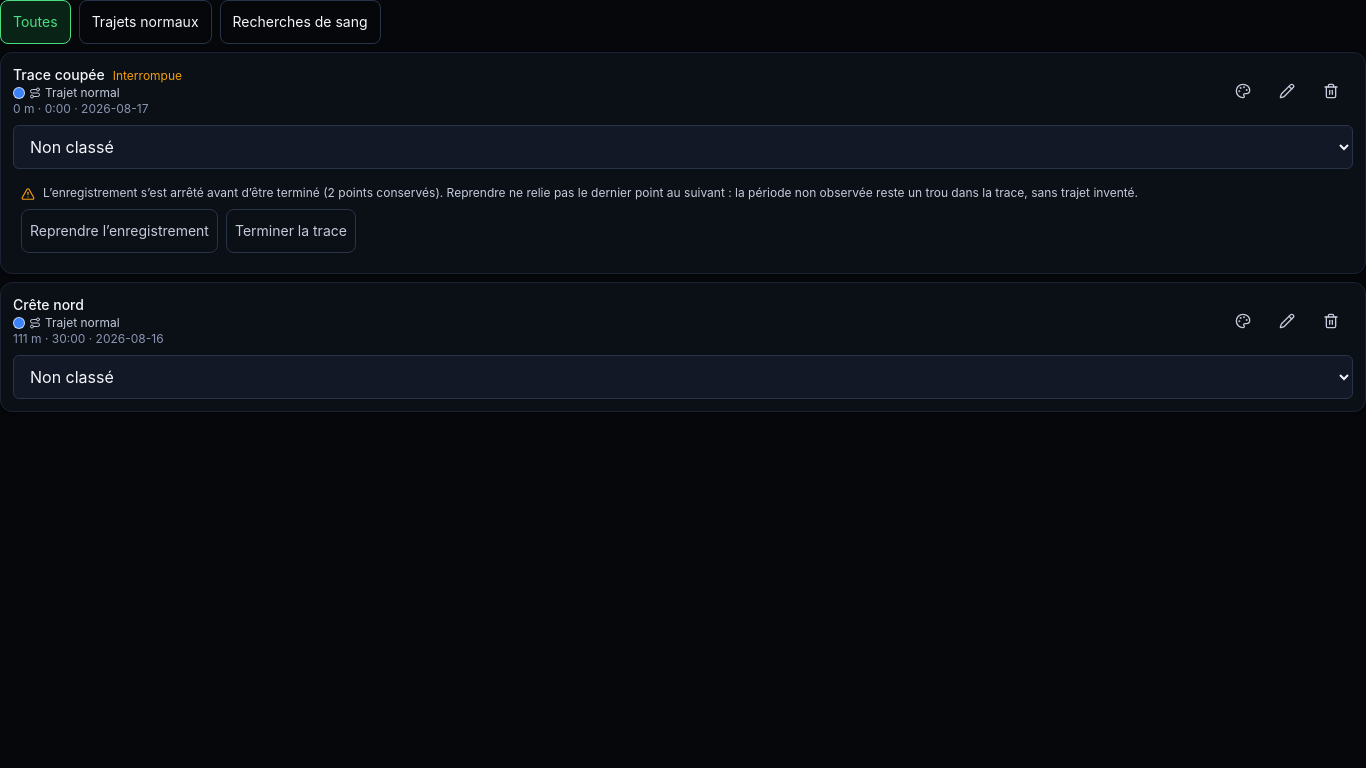
it: TrackList › asks for confirmation before deleting, and cancelling keeps the track
Click the button named "Supprimer Crête nord" at point(1331, 321), box [1309,299,1353,343]
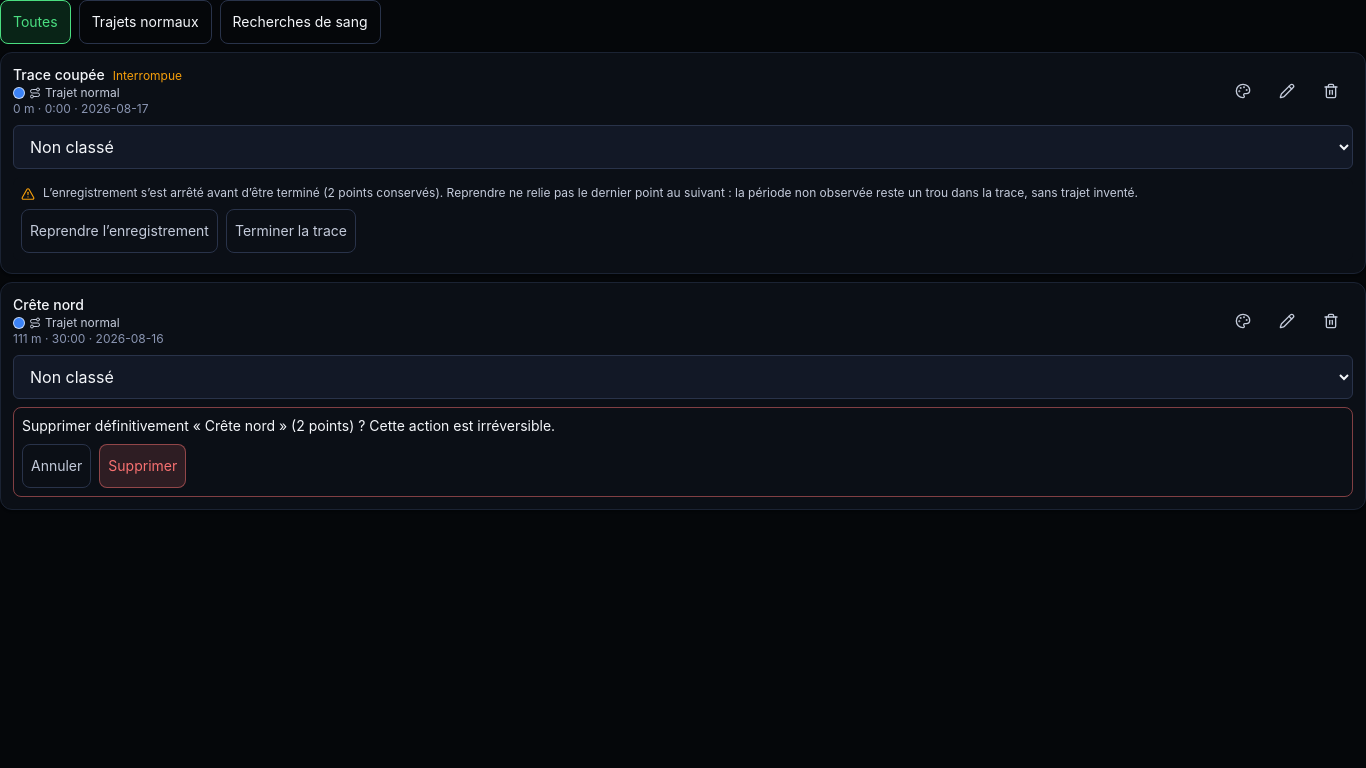
Expected: the dialog shows "irréversible", [305,417,555,434]
Click the button "Annuler" at point(57, 466), box [22,444,91,488]
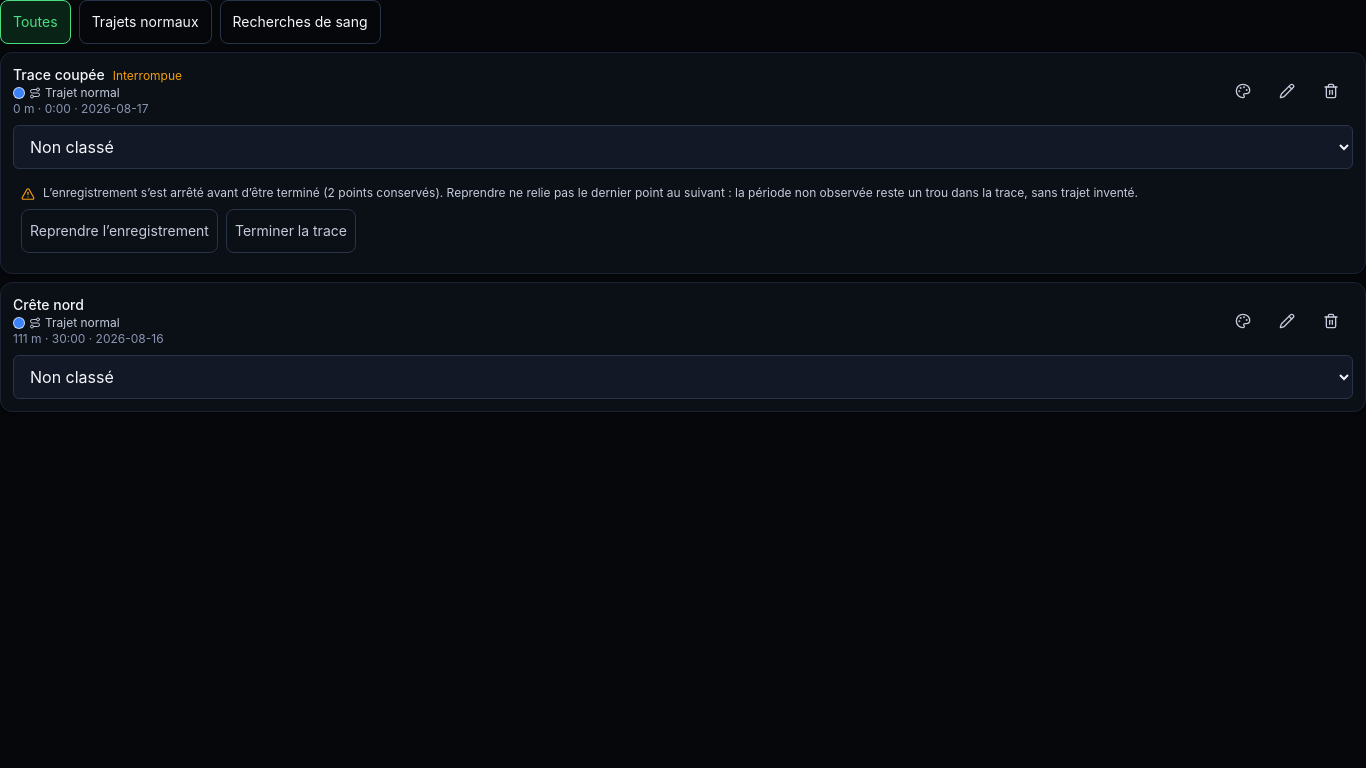
Expected: the dialog is gone
